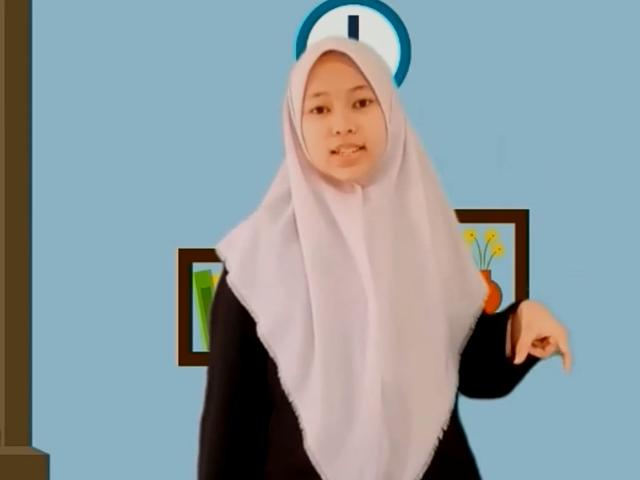Q: (508, 297, 574, 379)
